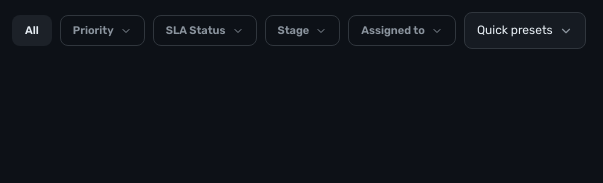
ComposableFilterBar - interaction patterns › handles Tab from listbox by closing and moving focus forward
Click the button "SLA Status" at [205, 31], box x1=153 y1=15 x2=256 y2=46
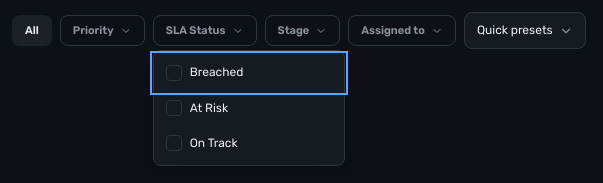
Press Tab in the list, box x1=153 y1=50 x2=345 y2=166
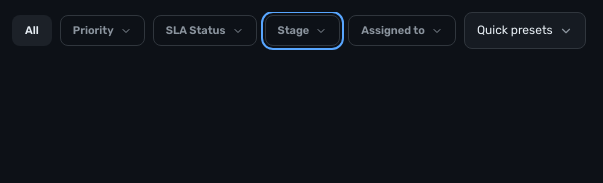
Check: the list is gone
